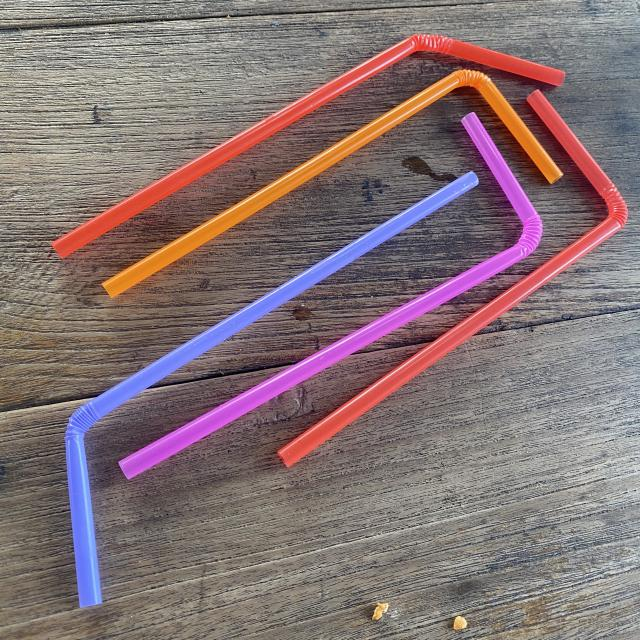Single-Use-Plastic: (65, 172, 478, 608), (120, 112, 542, 479), (279, 90, 628, 466), (51, 34, 565, 258), (104, 70, 562, 296)
